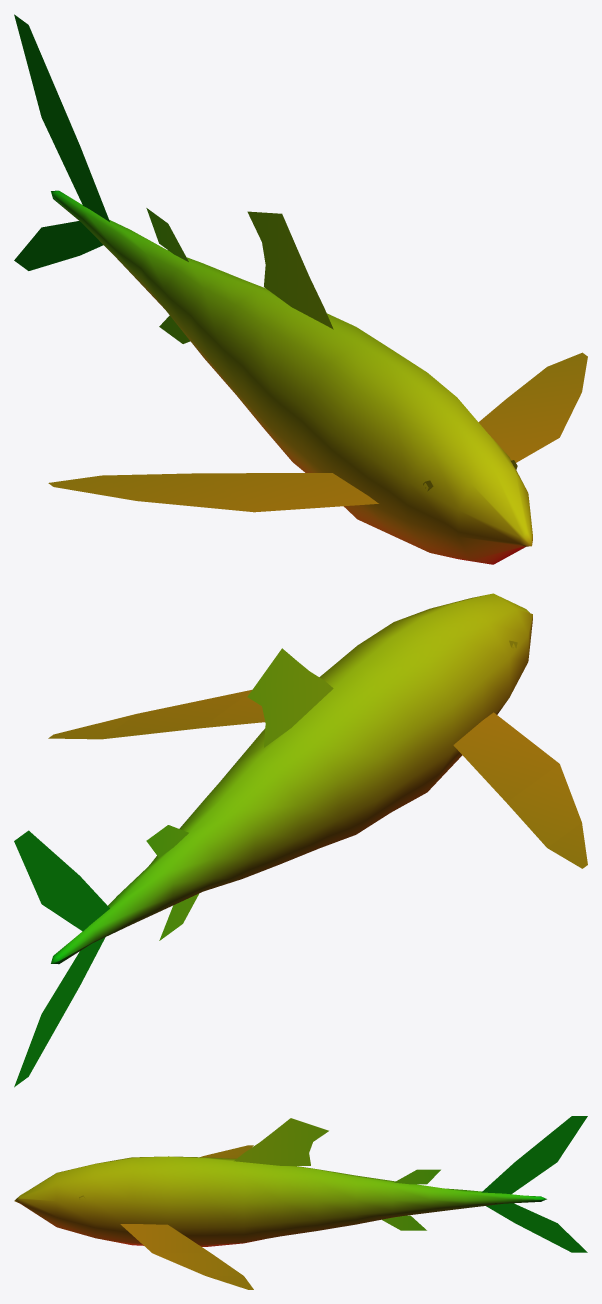
File: blueshark.glb
The picture shows the model from 3 angles, top to bottom: view 1: azimuth 30°, elevation 25°; view 2: azimuth 150°, elevation 25°; view 3: azimuth 270°, elevation 25°; orthographic projection. The views are drawn at different scales.
Visible parts, largest first — view 1: body; view 2: body; view 3: body.
Boxes of the visible parts, x1,y1,x2,y2 form: body: (14, 14, 587, 564); body: (14, 593, 587, 1087); body: (14, 1116, 587, 1289).
Size of the model in its own units: 0.6562 by 0.2891 by 1.1.
